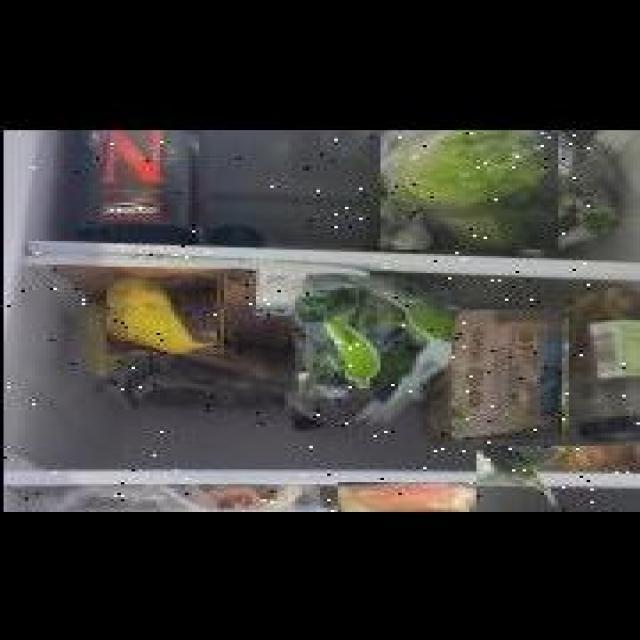bread: (452, 308, 566, 438)
cheese: (334, 480, 472, 512)
pear: (107, 275, 220, 352), (74, 292, 124, 395)
pineapple: (476, 443, 640, 512)
salad: (373, 128, 551, 248)
